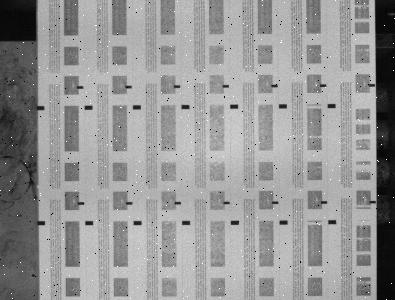backgroundclutter: (31, 274, 35, 277), (37, 185, 39, 189), (12, 297, 14, 300)
qblock: (181, 104, 190, 109), (84, 105, 93, 110), (182, 220, 190, 225), (230, 104, 238, 109), (133, 221, 142, 225), (328, 220, 337, 224), (327, 104, 336, 108), (85, 221, 93, 225), (36, 106, 44, 110), (231, 221, 239, 225), (280, 220, 288, 224), (37, 221, 45, 225), (133, 105, 141, 109), (279, 104, 287, 108)
smallqblock: (223, 84, 229, 88), (126, 202, 133, 205), (272, 201, 279, 204), (223, 201, 230, 204), (125, 85, 132, 88), (77, 86, 84, 89), (369, 84, 376, 87), (174, 85, 181, 88), (78, 202, 84, 205), (175, 201, 181, 204), (321, 201, 327, 204), (321, 84, 327, 87), (370, 201, 376, 204), (272, 84, 278, 87)
